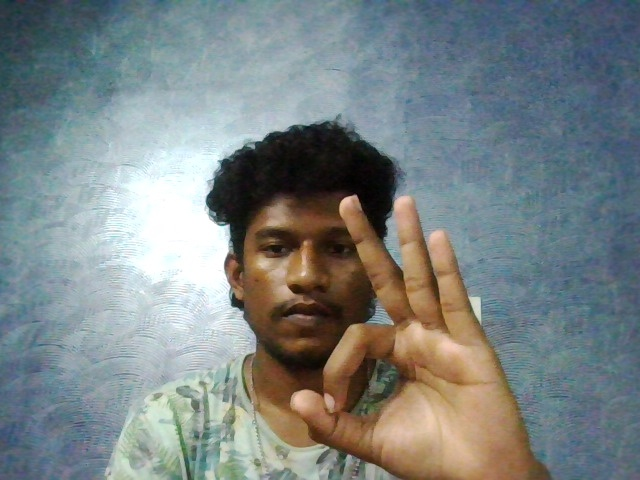good: (233, 173, 586, 480)
